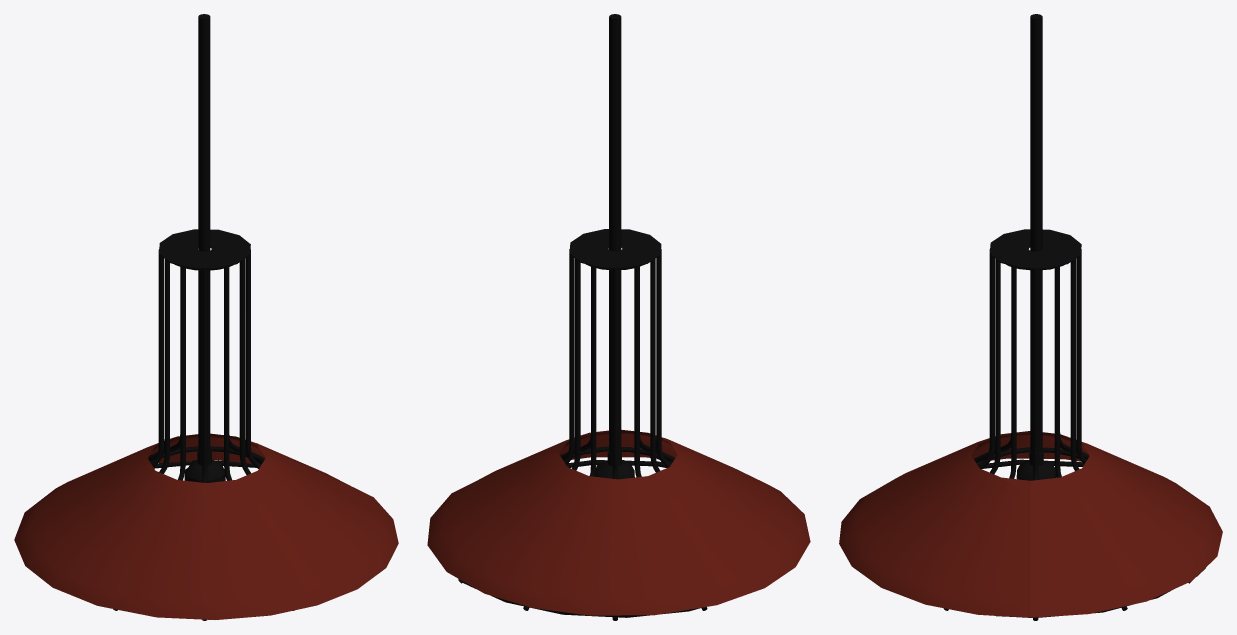
The model's file is lampara1.obj.
3 renders of one model, left to right at view 1: azimuth 30°, elevation 25°; view 2: azimuth 150°, elevation 25°; view 3: azimuth 270°, elevation 25°, orthographic.
Parts seen in each view (by area): view 1: LAMPARA _ncl1_43, LAMPARA _ncl1_48, LAMPARA _ncl1_25, LAMPARA _ncl1_36, LAMPARA _ncl1_24, LAMPARA _ncl1_37, LAMPARA _ncl1_32, LAMPARA _ncl1_35, _ncl1_31 LAMPARA, LAMPARA _ncl1_33, LAMPARA _ncl1_46; view 2: LAMPARA _ncl1_43, LAMPARA _ncl1_48, LAMPARA _ncl1_25, LAMPARA _ncl1_33, LAMPARA _ncl1_32, LAMPARA _ncl1_34, LAMPARA _ncl1_38, _ncl1_31 LAMPARA, LAMPARA _ncl1_39, LAMPARA _ncl1_40, LAMPARA _ncl1_44, LAMPARA _ncl1_46; view 3: LAMPARA _ncl1_43, LAMPARA _ncl1_48, LAMPARA _ncl1_25, LAMPARA _ncl1_35, LAMPARA _ncl1_40, LAMPARA _ncl1_41, LAMPARA _ncl1_37, LAMPARA _ncl1_36, LAMPARA _ncl1_39, LAMPARA _ncl1_38, LAMPARA _ncl1_46.
Part boxes in pixels (bbox=[...]): LAMPARA _ncl1_43: bbox=[14, 433, 398, 619]; LAMPARA _ncl1_48: bbox=[198, 14, 210, 453]; LAMPARA _ncl1_25: bbox=[159, 229, 250, 268]; LAMPARA _ncl1_36: bbox=[239, 259, 250, 474]; LAMPARA _ncl1_24: bbox=[202, 269, 207, 620]; LAMPARA _ncl1_37: bbox=[245, 249, 261, 468]; LAMPARA _ncl1_32: bbox=[113, 266, 185, 610]; LAMPARA _ncl1_35: bbox=[224, 266, 294, 610]; _ncl1_31 LAMPARA: bbox=[159, 259, 169, 473]; LAMPARA _ncl1_33: bbox=[151, 249, 163, 466]; LAMPARA _ncl1_46: bbox=[184, 449, 225, 482]; LAMPARA _ncl1_43: bbox=[427, 429, 810, 615]; LAMPARA _ncl1_48: bbox=[609, 14, 621, 453]; LAMPARA _ncl1_25: bbox=[569, 229, 661, 268]; LAMPARA _ncl1_33: bbox=[634, 265, 707, 610]; LAMPARA _ncl1_32: bbox=[656, 249, 671, 467]; LAMPARA _ncl1_34: bbox=[612, 268, 617, 620]; LAMPARA _ncl1_38: bbox=[523, 265, 596, 610]; _ncl1_31 LAMPARA: bbox=[650, 258, 660, 472]; LAMPARA _ncl1_39: bbox=[458, 258, 580, 583]; LAMPARA _ncl1_40: bbox=[563, 249, 574, 464]; LAMPARA _ncl1_44: bbox=[459, 460, 701, 617]; LAMPARA _ncl1_46: bbox=[594, 450, 634, 479]; LAMPARA _ncl1_43: bbox=[839, 431, 1222, 617]; LAMPARA _ncl1_48: bbox=[1030, 14, 1042, 464]; LAMPARA _ncl1_25: bbox=[989, 229, 1081, 268]; LAMPARA _ncl1_35: bbox=[978, 249, 994, 468]; LAMPARA _ncl1_40: bbox=[1054, 266, 1127, 610]; LAMPARA _ncl1_41: bbox=[1033, 268, 1038, 620]; LAMPARA _ncl1_37: bbox=[943, 266, 1016, 610]; LAMPARA _ncl1_36: bbox=[990, 259, 1000, 474]; LAMPARA _ncl1_39: bbox=[1070, 259, 1191, 583]; LAMPARA _ncl1_38: bbox=[1076, 249, 1086, 464]; LAMPARA _ncl1_46: bbox=[1016, 450, 1056, 480].
Size of the model in its own units: 31.85 by 51.57 by 31.82.
